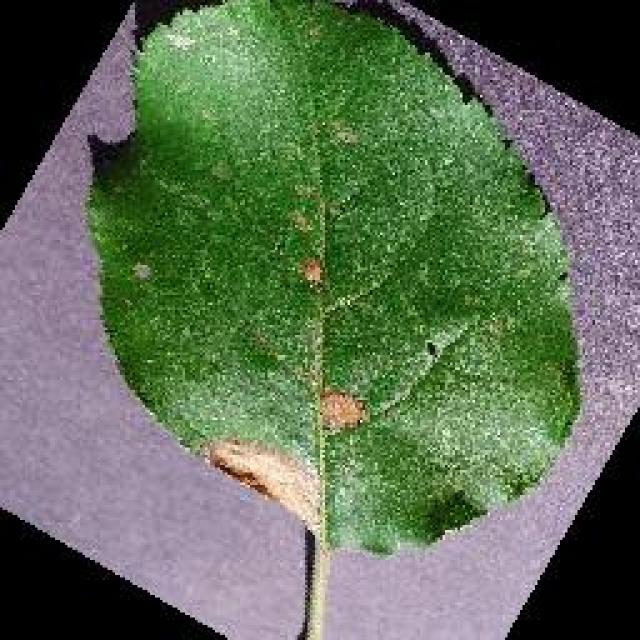Black_rot: (82, 0, 582, 558)
